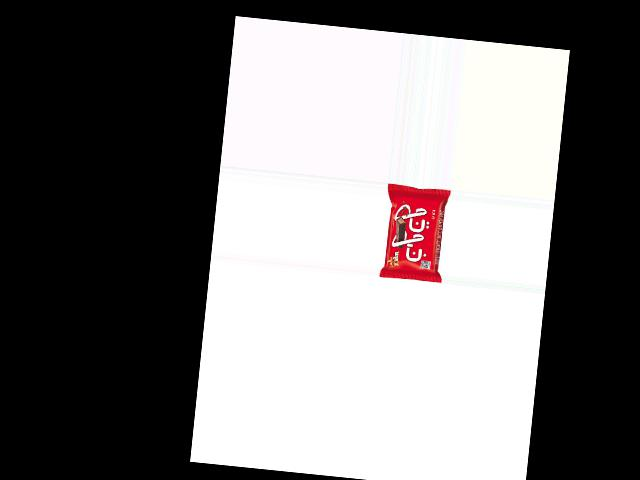chocolate: (379, 184, 451, 282)
